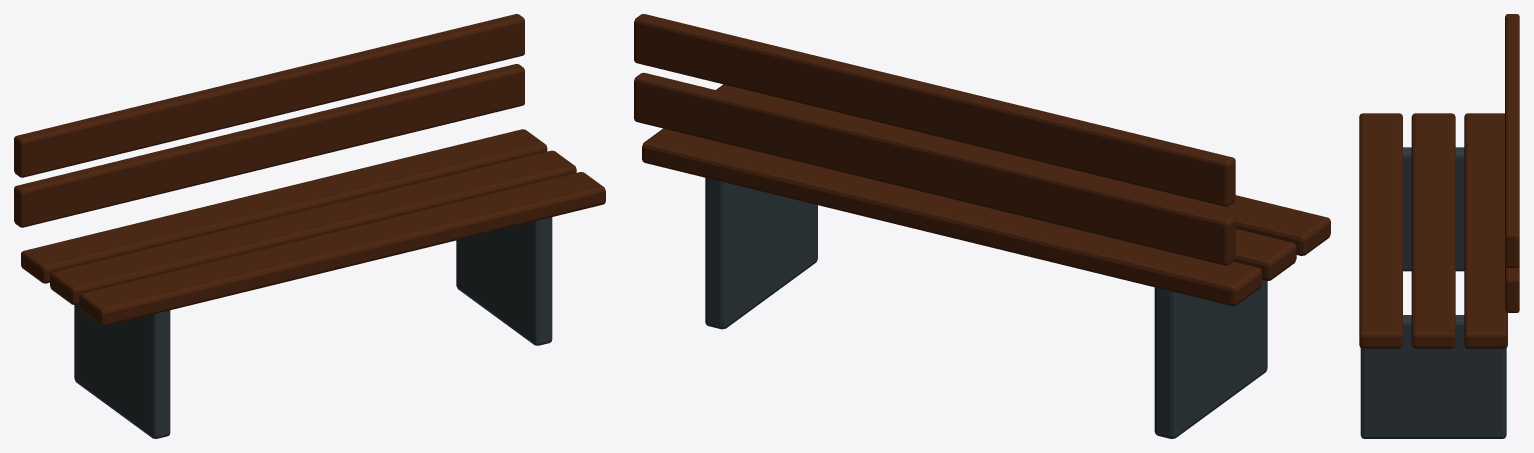
Rendered from ParkBench.fbx.
3 views of the same model, side by side, from view 1: azimuth 30°, elevation 25°; view 2: azimuth 150°, elevation 25°; view 3: azimuth 270°, elevation 25° (orthographic). The views are drawn at different scales.
Parts seen in each view (by area): view 1: ParkBench; view 2: ParkBench; view 3: ParkBench.
Part boxes in pixels (x1,y1,x2,y2): ParkBench: (14, 14, 605, 438); ParkBench: (634, 14, 1330, 438); ParkBench: (1359, 14, 1519, 438).
Size of the model in its own units: 180 by 55 by 86.5.
